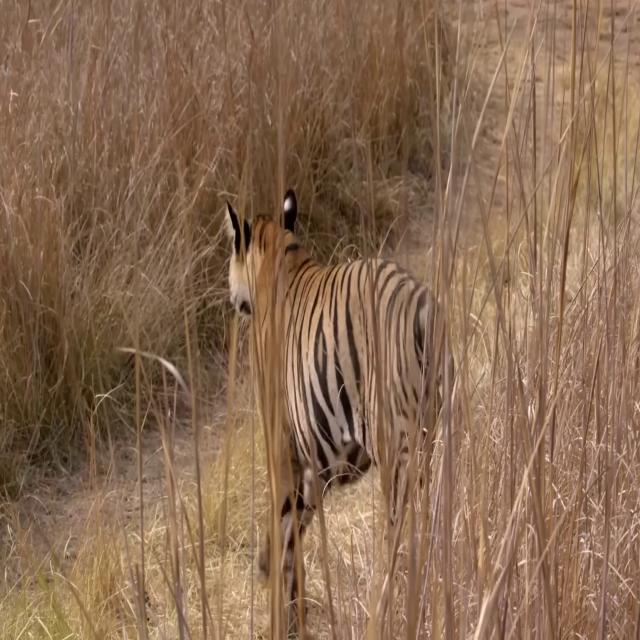tiger: (220, 185, 454, 640)
